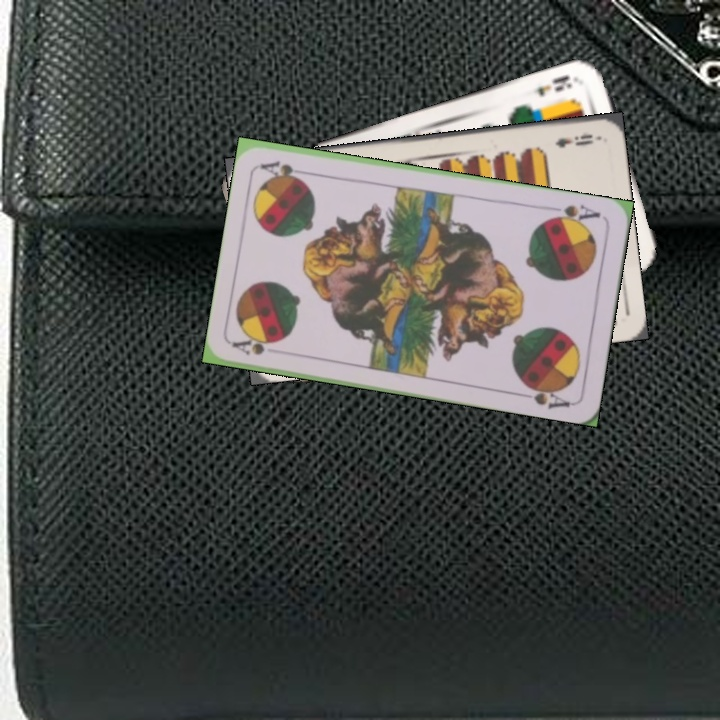E9: (551, 129, 596, 150)
EK: (532, 71, 575, 99)
SA: (544, 201, 603, 228), (229, 333, 281, 358)
